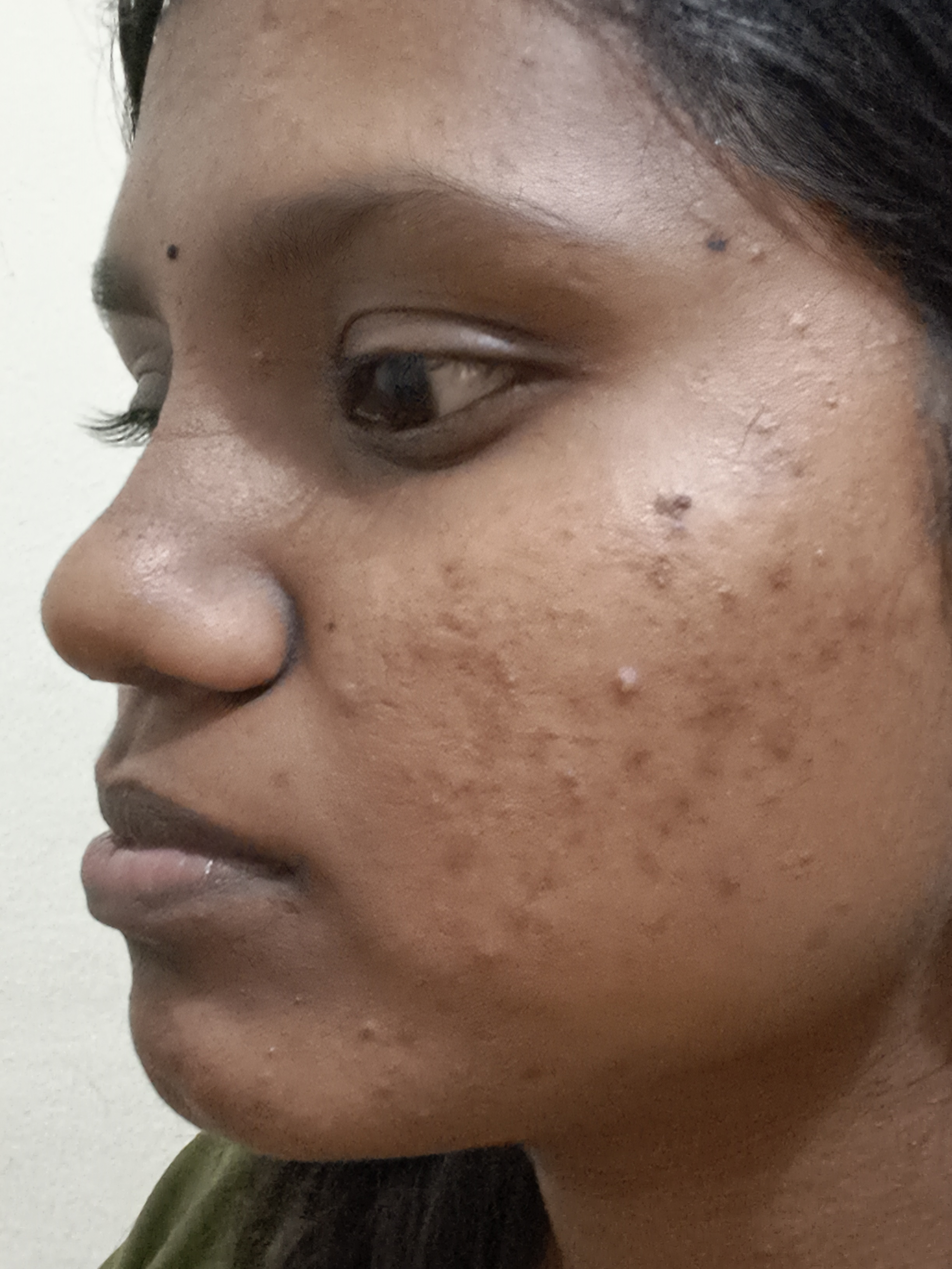closed_comedone: (257, 1035, 292, 1069), (757, 415, 793, 441), (811, 547, 827, 563)
macrocomedone: (774, 297, 818, 338), (555, 768, 596, 808), (735, 227, 769, 265), (354, 1016, 386, 1039), (794, 844, 819, 867)
nodule: (610, 658, 644, 707)
